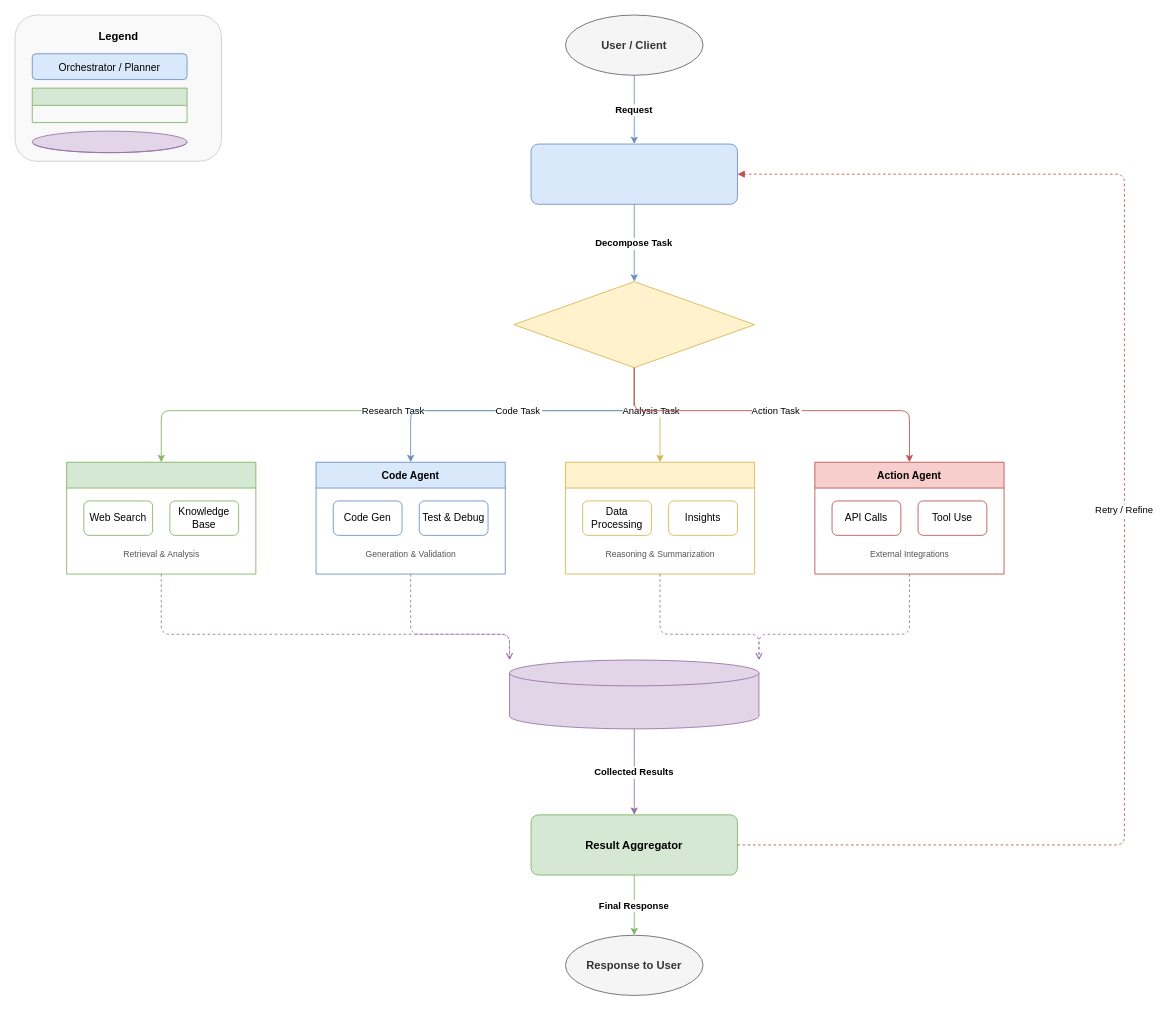
Some shapes in this 1170 by 1011 pixel diagram are drawn without their labels. Here are the shapes that lost their labels. From the top down, the box of each, then its label:
(31, 87, 187, 123): Subagent (Swimlane)
(31, 130, 187, 153): Shared Memory Store
(530, 143, 737, 204): Orchestrator Agent
(513, 281, 755, 368): Task Router / Planner
(66, 461, 256, 574): Research Agent
(565, 461, 755, 574): Analysis Agent
(509, 659, 759, 729): Shared Memory / Context Store
